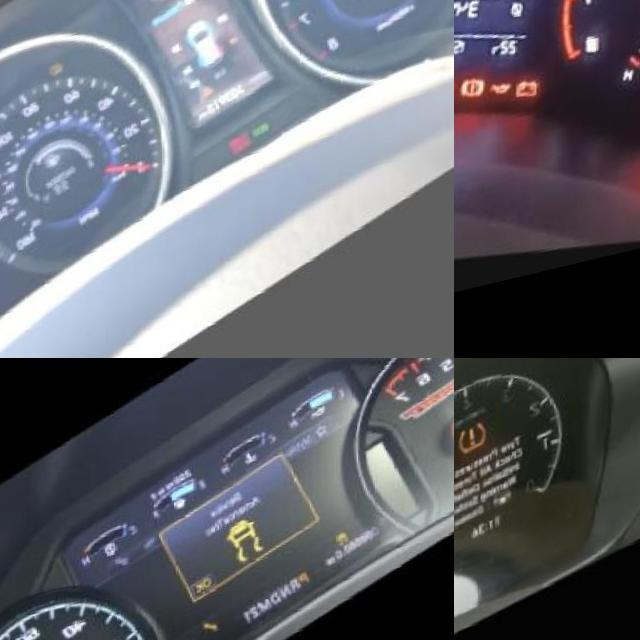High Engine Coolant Temperature: (238, 465, 261, 485)
